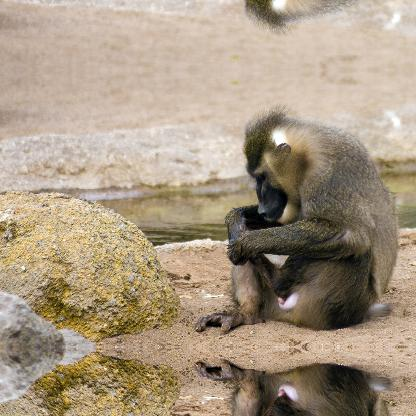Monkey: (216, 107, 406, 345), (216, 347, 406, 415)
